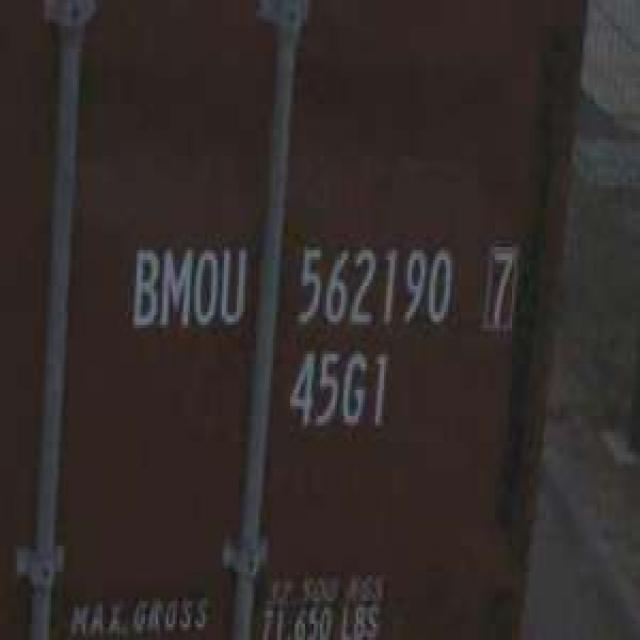dv: (478, 234, 520, 335)
owner: (126, 234, 249, 338)
serial: (290, 234, 457, 335)
size: (282, 341, 391, 439)
